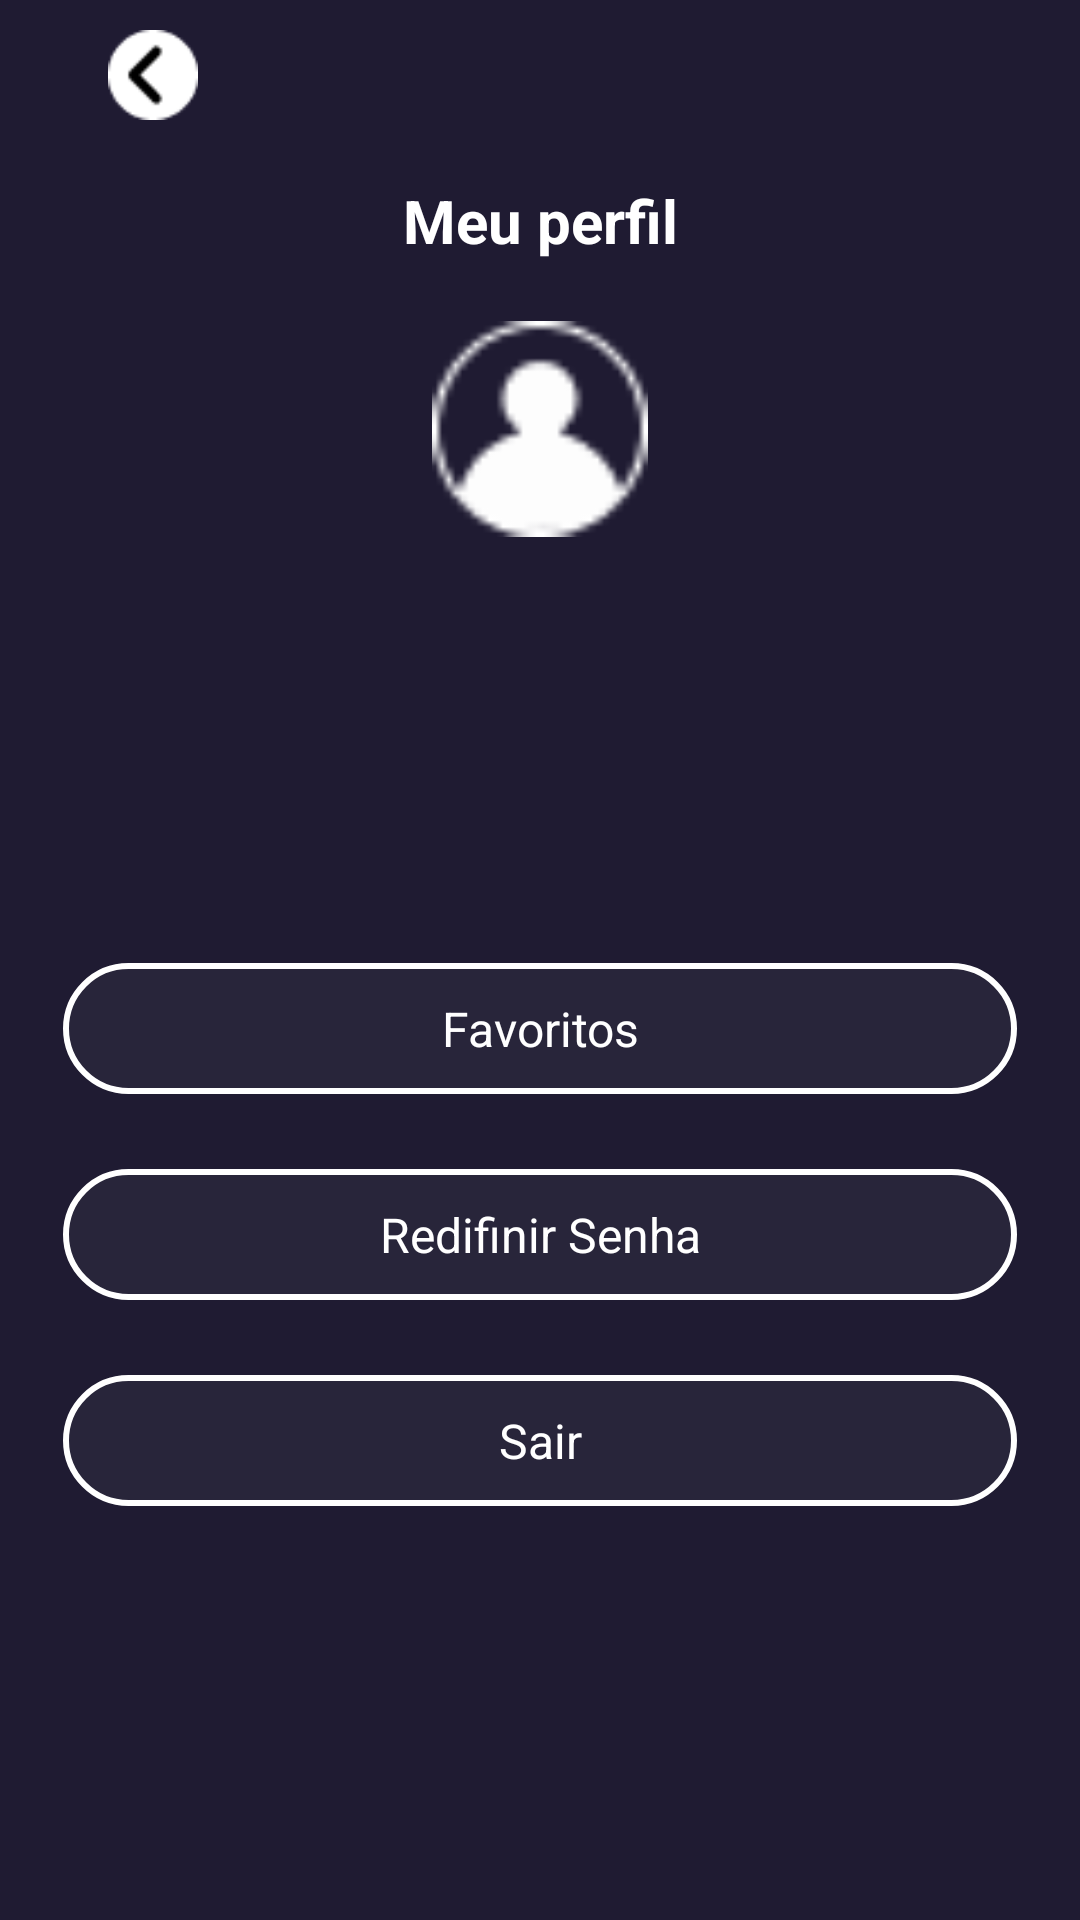

Icon bounding boxes for this 1080 x 1920 phone screenshot, format (x1, y1, x2, y2):
back: (108, 30, 198, 120)
person: (432, 321, 648, 537)
